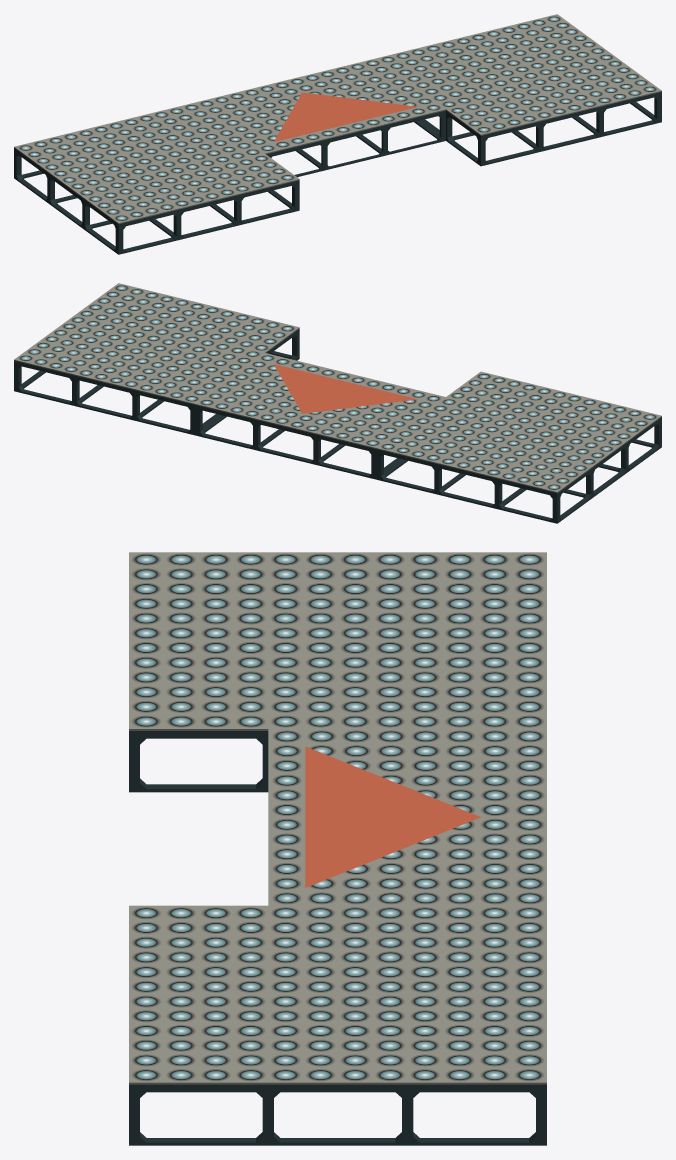
The model's file is CA_150_cosmodrome_landing_floor_arrow_and_sides.glb.
3 renders of one model, top to bottom at view 1: azimuth 30°, elevation 25°; view 2: azimuth 150°, elevation 25°; view 3: azimuth 270°, elevation 25°, orthographic. The views are drawn at different scales.
Visible parts, largest first — view 1: floor_cheat.001, floor_small.001, metallic_structure_cheat.001, arrow_mark.001, metallic_structure_small.001; view 2: floor_cheat.001, floor_small.001, metallic_structure_cheat.001, arrow_mark.001, metallic_structure_small.001; view 3: floor_cheat.001, floor_small.001, metallic_structure_cheat.001, arrow_mark.001.
Boxes of the visible parts, x1,y1,x2,y2 form: floor_cheat.001: (14, 14, 661, 224); floor_small.001: (195, 58, 445, 154); metallic_structure_cheat.001: (14, 92, 661, 254); arrow_mark.001: (274, 92, 417, 141); metallic_structure_small.001: (266, 110, 445, 177); floor_cheat.001: (14, 283, 661, 493); floor_small.001: (195, 353, 445, 448); metallic_structure_cheat.001: (14, 328, 661, 523); arrow_mark.001: (274, 364, 417, 413); metallic_structure_small.001: (195, 405, 401, 479); floor_cheat.001: (129, 552, 546, 1084); floor_small.001: (268, 729, 546, 905); metallic_structure_cheat.001: (129, 731, 546, 1145); arrow_mark.001: (305, 746, 480, 887).
Size of the model in its own units: 6.75 by 0.376 by 2.25.
7 materials, 2 textured.
